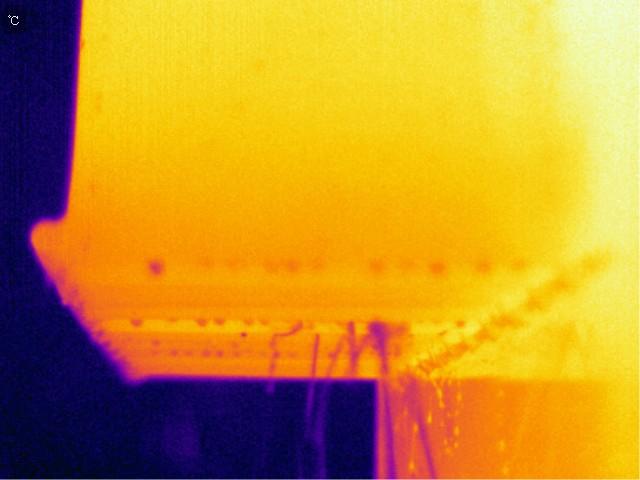Water: (366, 322, 406, 480), (403, 382, 443, 480), (341, 323, 373, 382), (271, 326, 303, 379), (326, 339, 345, 378), (311, 334, 321, 390), (144, 255, 166, 277), (425, 258, 449, 276), (241, 316, 271, 330), (126, 313, 146, 327), (194, 313, 211, 329), (212, 313, 228, 330), (213, 347, 225, 359), (169, 347, 181, 358)
